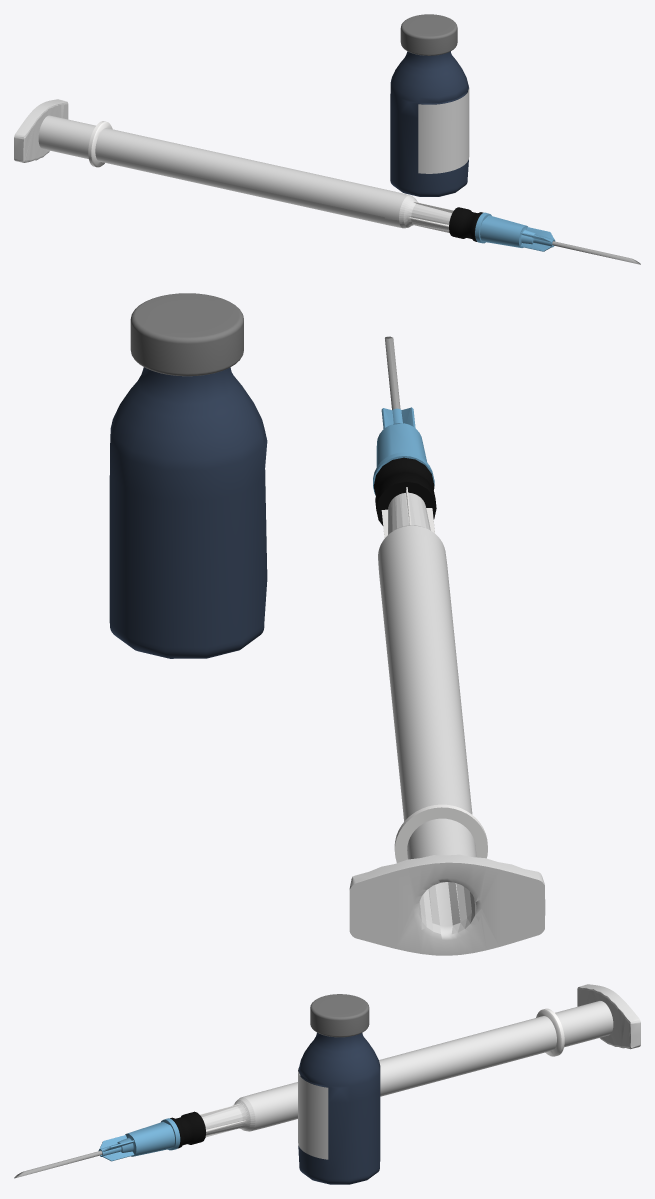
Rendered from suntikan.glb.
3 views of the same model, one above another, from view 1: azimuth 30°, elevation 25°; view 2: azimuth 150°, elevation 25°; view 3: azimuth 270°, elevation 25° (orthographic). The views are drawn at different scales.
Visible parts, largest first — view 1: D7014BOT, Bottle, Label, Lid Metal, D7014NE2, D7014BO1, D7014BO2, D7014NEE; view 2: Bottle, D7014BOT, Lid Metal, D7014BO2, D7014BO1, D7014NE2; view 3: D7014BOT, Bottle, Lid Metal, Label, D7014NE2, D7014BO1, D7014BO2, D7014NEE.
Part boxes in pixels (bbox=[...]): D7014BOT: bbox=[14, 99, 451, 230]; Bottle: bbox=[390, 51, 468, 196]; Label: bbox=[418, 86, 469, 173]; Lid Metal: bbox=[400, 14, 457, 55]; D7014NE2: bbox=[475, 212, 555, 251]; D7014BO1: bbox=[449, 207, 483, 241]; D7014BO2: bbox=[88, 121, 453, 232]; D7014NEE: bbox=[552, 241, 640, 264]; Bottle: bbox=[109, 367, 267, 658]; D7014BOT: bbox=[349, 492, 545, 955]; Lid Metal: bbox=[130, 293, 243, 376]; D7014BO2: bbox=[381, 487, 487, 862]; D7014BO1: bbox=[373, 457, 436, 525]; D7014NE2: bbox=[373, 407, 434, 494]; D7014BOT: bbox=[202, 984, 640, 1135]; Bottle: bbox=[298, 1032, 380, 1184]; Lid Metal: bbox=[310, 994, 369, 1037]; Label: bbox=[298, 1068, 328, 1159]; D7014NE2: bbox=[98, 1118, 180, 1161]; D7014BO1: bbox=[170, 1111, 206, 1148]; D7014BO2: bbox=[200, 1008, 564, 1137]; D7014NEE: bbox=[14, 1150, 102, 1178].
Size of the model in its own units: 12.14 by 5.27 by 17.9.
